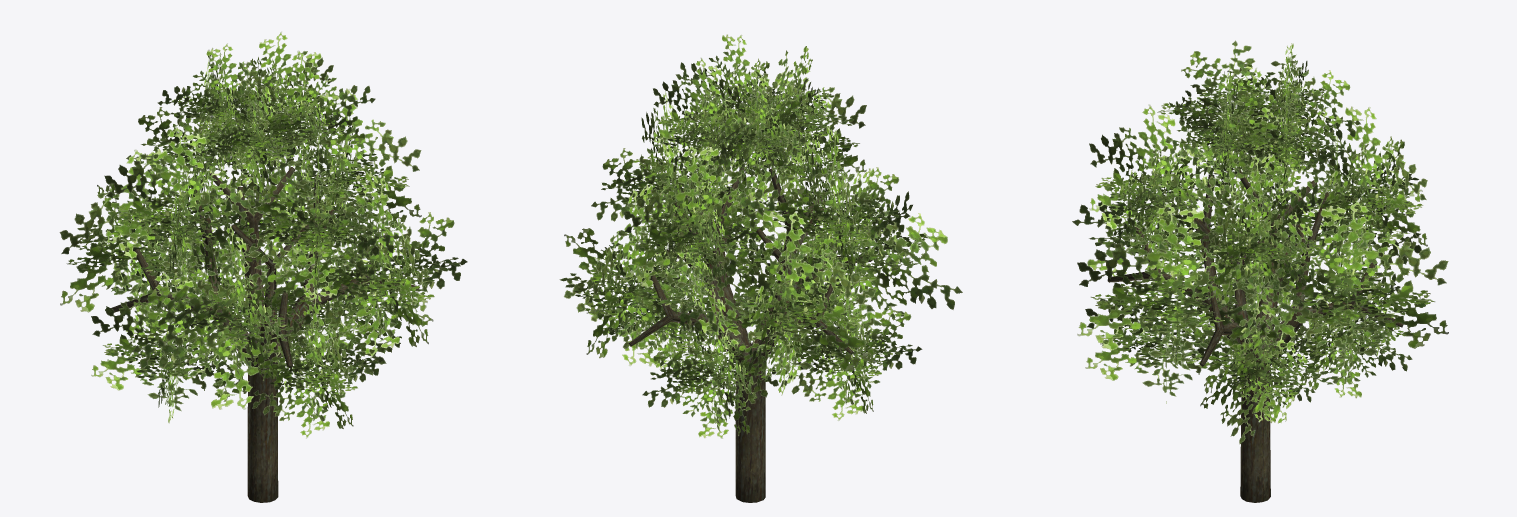
File: glf_tree1__glf_tree1.glb
3 renders of one model, left to right at view 1: azimuth 30°, elevation 25°; view 2: azimuth 150°, elevation 25°; view 3: azimuth 270°, elevation 25°, orthographic.
Parts seen in each view (by area): view 1: polygon1, polygon0; view 2: polygon1, polygon0; view 3: polygon1, polygon0.
Part boxes in pixels (bbox=[...]): polygon1: bbox=[59, 31, 467, 438]; polygon0: bbox=[111, 167, 419, 502]; polygon1: bbox=[559, 34, 962, 438]; polygon0: bbox=[628, 168, 872, 502]; polygon1: bbox=[1072, 40, 1448, 444]; polygon0: bbox=[1107, 169, 1403, 502].
Bounding box in the file's own units: 176 × 198 × 183.
2 materials, 2 textured.
